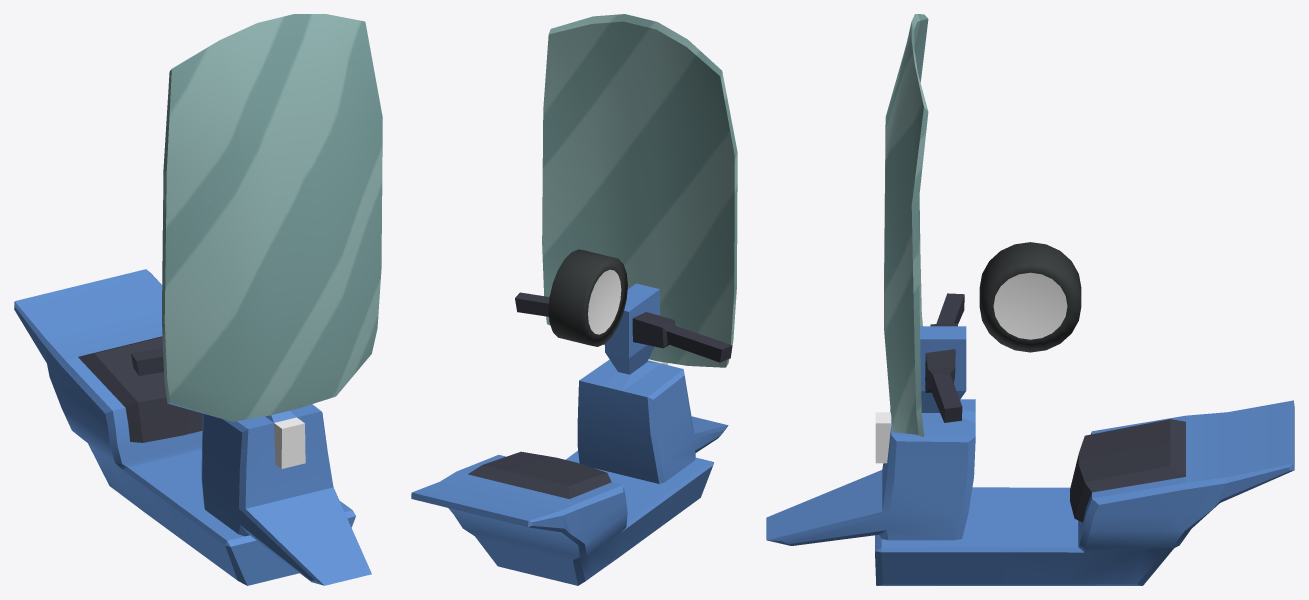
File: scooter 2 blue.fbx
3 views of the same model, side by side, from view 1: azimuth 30°, elevation 25°; view 2: azimuth 150°, elevation 25°; view 3: azimuth 270°, elevation 25° (orthographic). The views are drawn at different scales.
Parts seen in each view (by area): view 1: scooter_2_blue; view 2: scooter_2_blue, scooter_2_blue_wheel; view 3: scooter_2_blue, scooter_2_blue_wheel.
Part boxes in pixels (left/top/right/bottom): scooter_2_blue: left=14, top=14, right=382, bottom=585; scooter_2_blue: left=411, top=14, right=737, bottom=585; scooter_2_blue_wheel: left=548, top=249, right=627, bottom=346; scooter_2_blue: left=766, top=14, right=1294, bottom=585; scooter_2_blue_wheel: left=979, top=242, right=1081, bottom=352.
Bounding box in the file's own units: 55.02 × 118 × 106.
